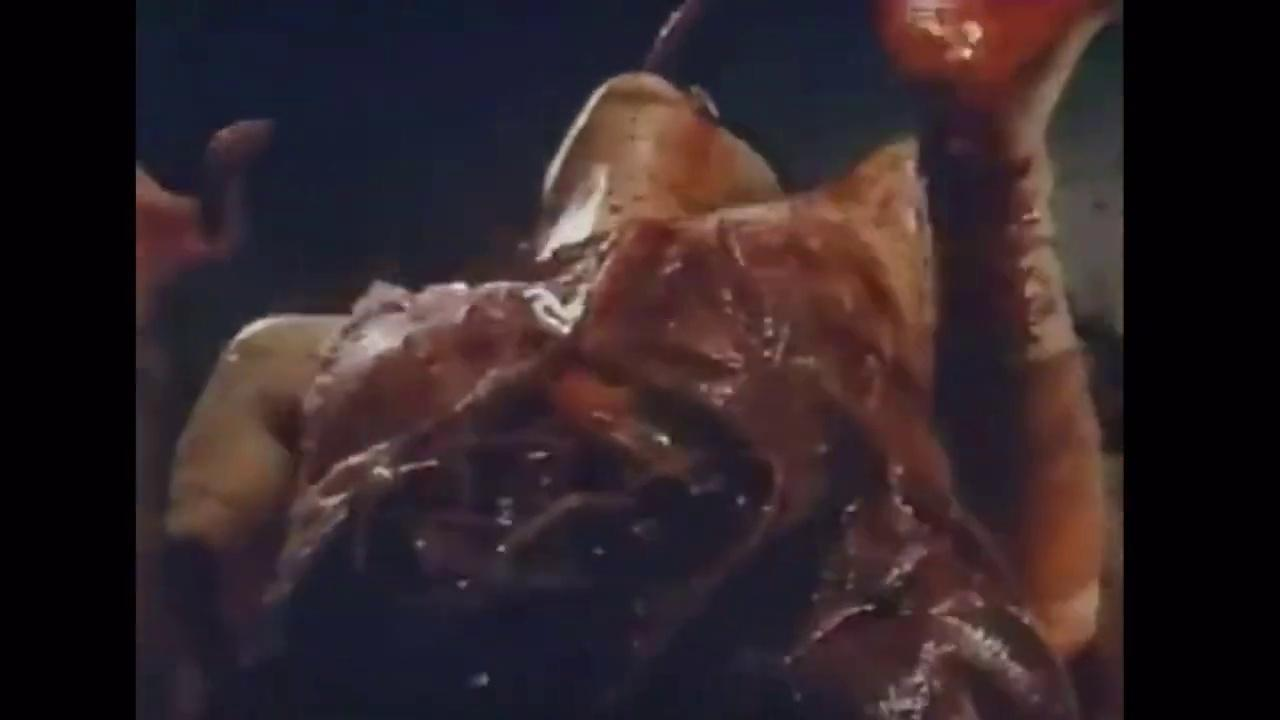Fire: (184, 0, 1117, 720)
